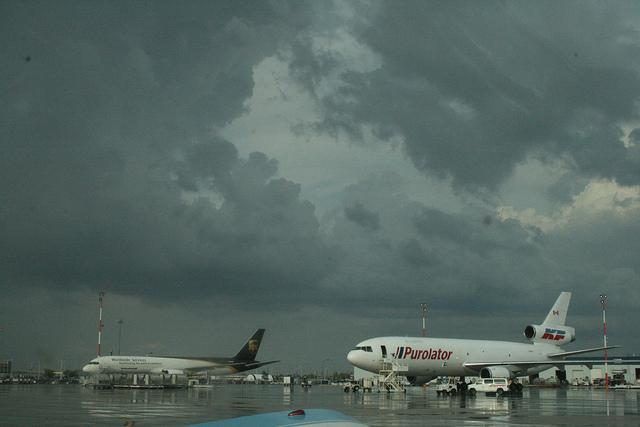airplane: (346, 289, 620, 379), (80, 327, 279, 386)
